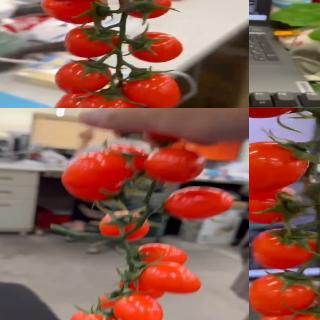tomato: (60, 156, 128, 202), (249, 142, 310, 193), (249, 274, 318, 317), (251, 227, 318, 268), (144, 144, 206, 185), (163, 186, 236, 219), (122, 73, 184, 108), (249, 189, 304, 228), (135, 262, 202, 294), (55, 61, 114, 94), (64, 26, 119, 59), (128, 31, 185, 62), (42, 0, 114, 24), (98, 210, 152, 240), (113, 291, 164, 320), (134, 242, 188, 268), (103, 145, 150, 174), (53, 89, 107, 108), (75, 92, 134, 108), (125, 0, 173, 18), (303, 180, 320, 217), (68, 309, 123, 320)
